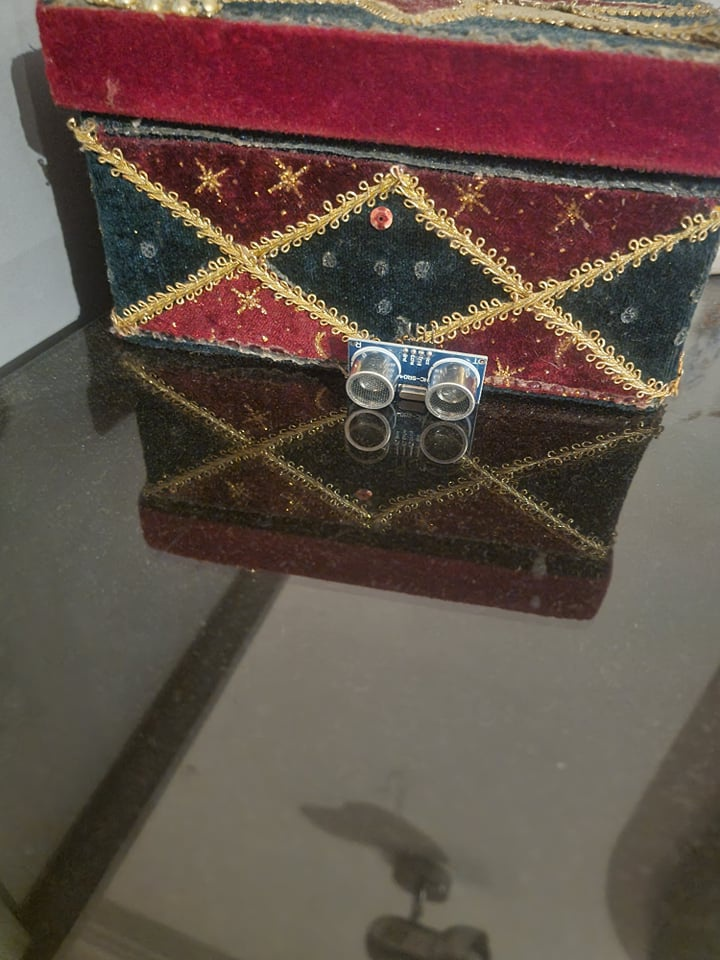SENSOR: (347, 337, 488, 424)
